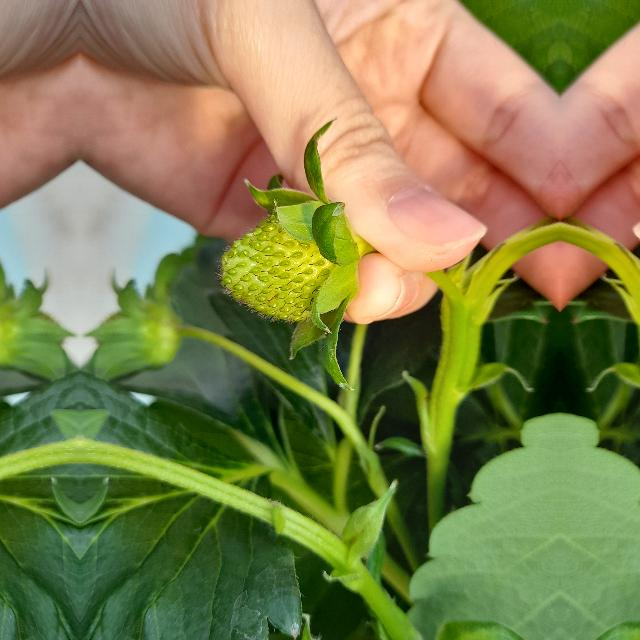Health_25: (218, 208, 334, 322)
